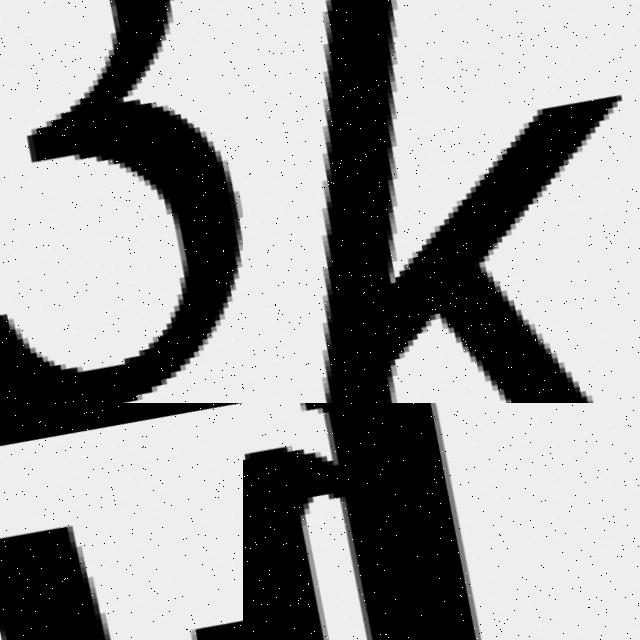3: (0, 0, 243, 403)
D: (243, 403, 588, 640)
K: (243, 0, 640, 403)
W: (0, 403, 243, 640)
